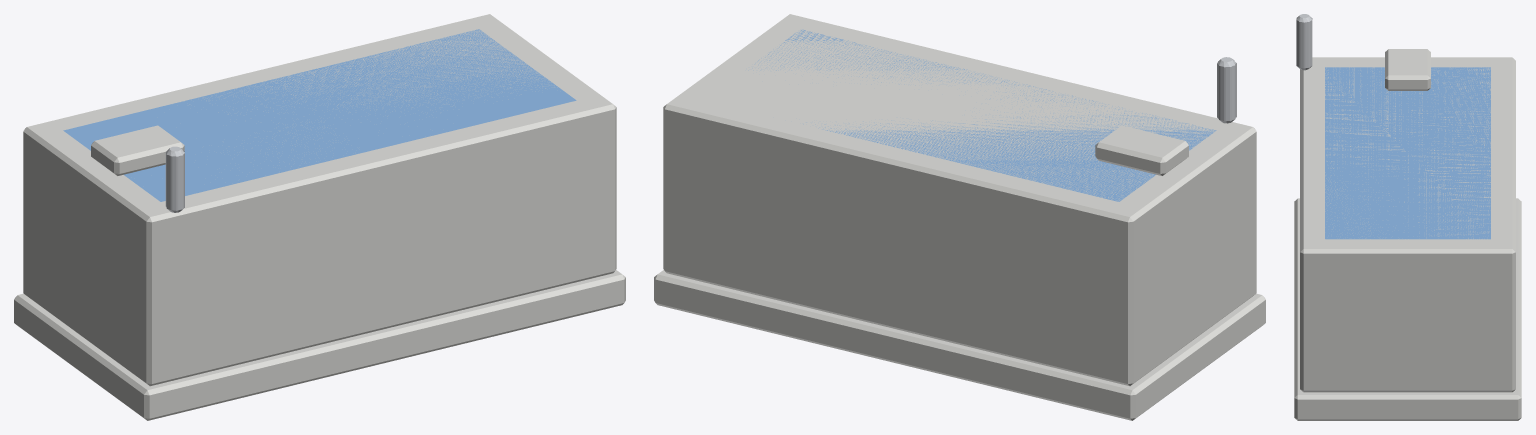
The picture shows the model from 3 angles, left to right: view 1: azimuth 30°, elevation 25°; view 2: azimuth 150°, elevation 25°; view 3: azimuth 270°, elevation 25°; orthographic projection. The views are drawn at different scales.
Visible parts, largest first — view 1: 缸体, 水面, 裙边, 靠枕, 龙头.002; view 2: 缸体, 裙边, 水面, 靠枕, 龙头.002; view 3: 缸体, 水面, 裙边, 靠枕, 龙头.002.
Part boxes in pixels (box(x1,y1,x2,y2)): 缸体: box(23, 14, 616, 386); 水面: box(63, 29, 576, 201); 裙边: box(14, 270, 625, 420); 靠枕: box(91, 125, 184, 175); 龙头.002: box(165, 146, 184, 212); 缸体: box(663, 14, 1256, 386); 裙边: box(654, 270, 1265, 420); 水面: box(748, 29, 1216, 201); 靠枕: box(1095, 125, 1188, 175); 龙头.002: box(1217, 57, 1236, 123); 缸体: box(1300, 57, 1515, 392); 水面: box(1325, 67, 1490, 239); 裙边: box(1294, 198, 1521, 420); 靠枕: box(1385, 49, 1430, 90); 龙头.002: box(1296, 14, 1312, 70).
Size of the model in its own units: 164 by 85 by 79.
